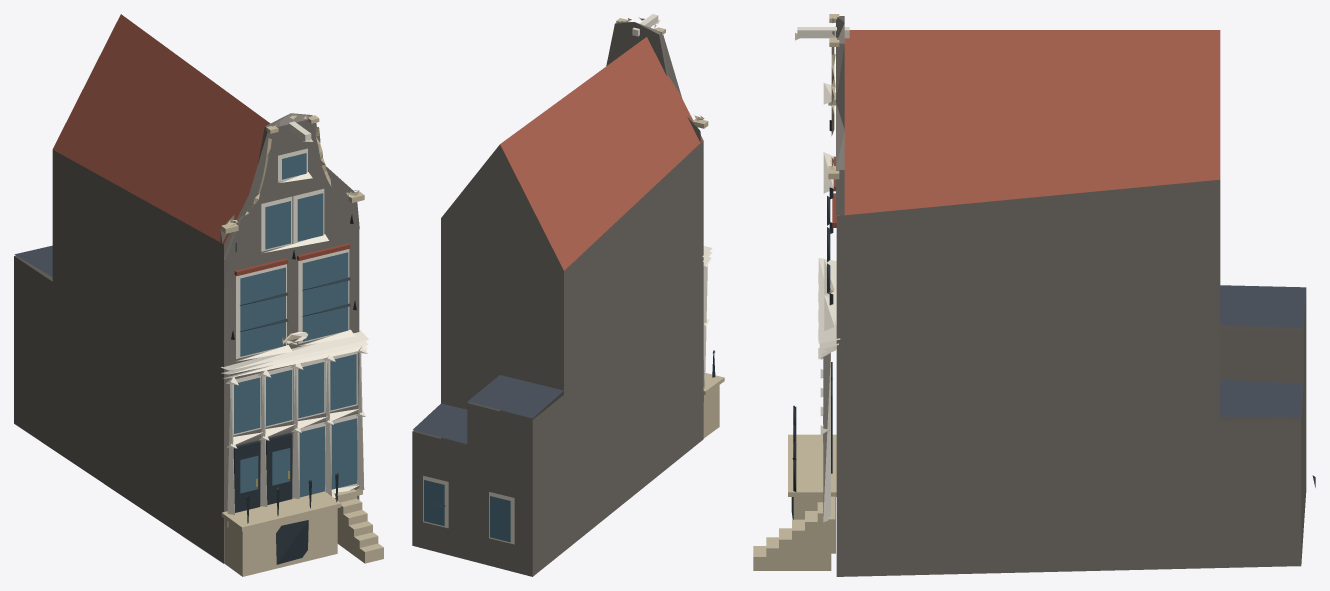
The model's file is multatuli.lod1.glb.
The picture shows the model from 3 angles, left to right: view 1: azimuth 30°, elevation 25°; view 2: azimuth 150°, elevation 25°; view 3: azimuth 270°, elevation 25°; orthographic projection. The views are drawn at different scales.
Parts seen in each view (by area): view 1: multatuli; view 2: multatuli; view 3: multatuli.
Part boxes in pixels (box(x1,y1,x2,y2)): multatuli: box(14, 14, 383, 576); multatuli: box(412, 14, 724, 576); multatuli: box(753, 14, 1315, 576).
Bounding box in the file's own units: 5.2 × 14.18 × 13.96.
